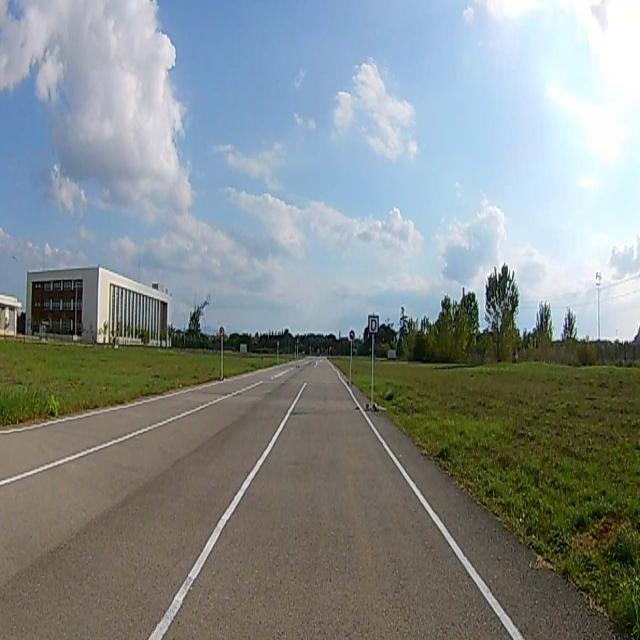durak: (369, 317, 379, 334)
